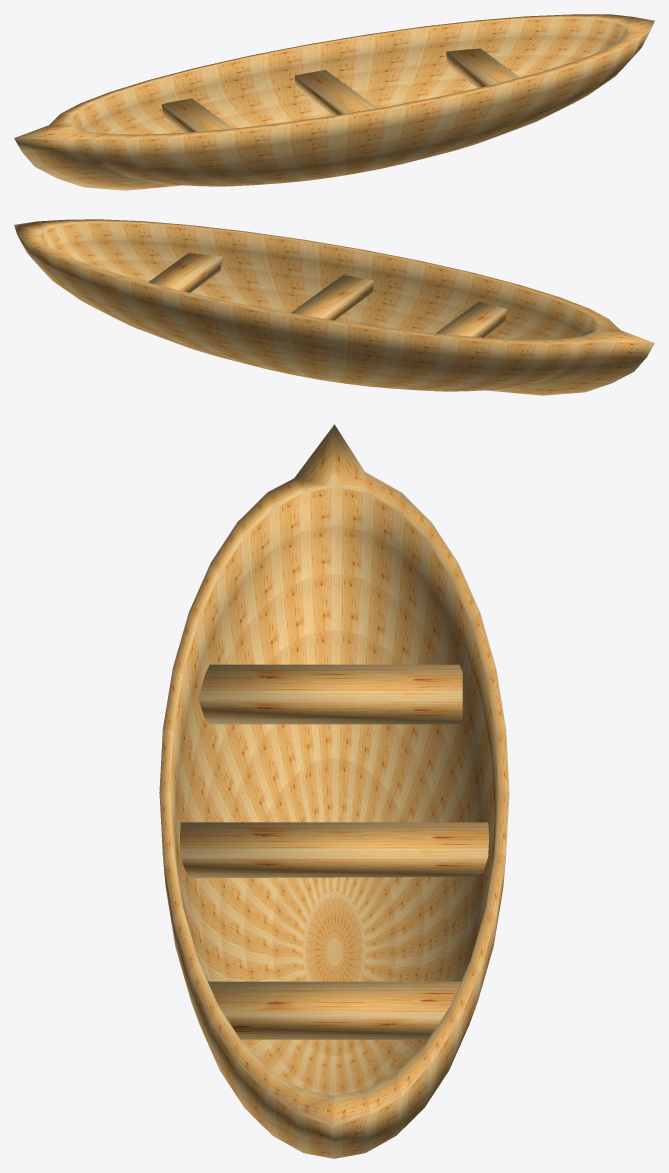
Rendered from boat.obj.
The picture shows the model from 3 angles, top to bottom: view 1: azimuth 30°, elevation 25°; view 2: azimuth 150°, elevation 25°; view 3: azimuth 270°, elevation 25°; orthographic projection. The views are drawn at different scales.
Visible parts, largest first — view 1: Sphere, Cube.001, Cube.002, Cube.003; view 2: Sphere, Cube.001, Cube.002, Cube.003; view 3: Sphere, Cube.001, Cube.003, Cube.002.
Boxes of the visible parts, <box> form: Sphere: <box>14,14,654,190</box>; Cube.001: <box>294,70,377,115</box>; Cube.002: <box>446,48,519,87</box>; Cube.003: <box>162,98,232,132</box>; Sphere: <box>14,219,654,395</box>; Cube.001: <box>291,275,373,320</box>; Cube.002: <box>148,253,222,292</box>; Cube.003: <box>435,301,506,337</box>; Sphere: <box>159,424,509,1158</box>; Cube.001: <box>180,822,488,878</box>; Cube.003: <box>198,664,462,724</box>; Cube.002: <box>208,981,460,1039</box>.
Bounding box in the file's own units: 10.23 × 1.7 × 2.42.
